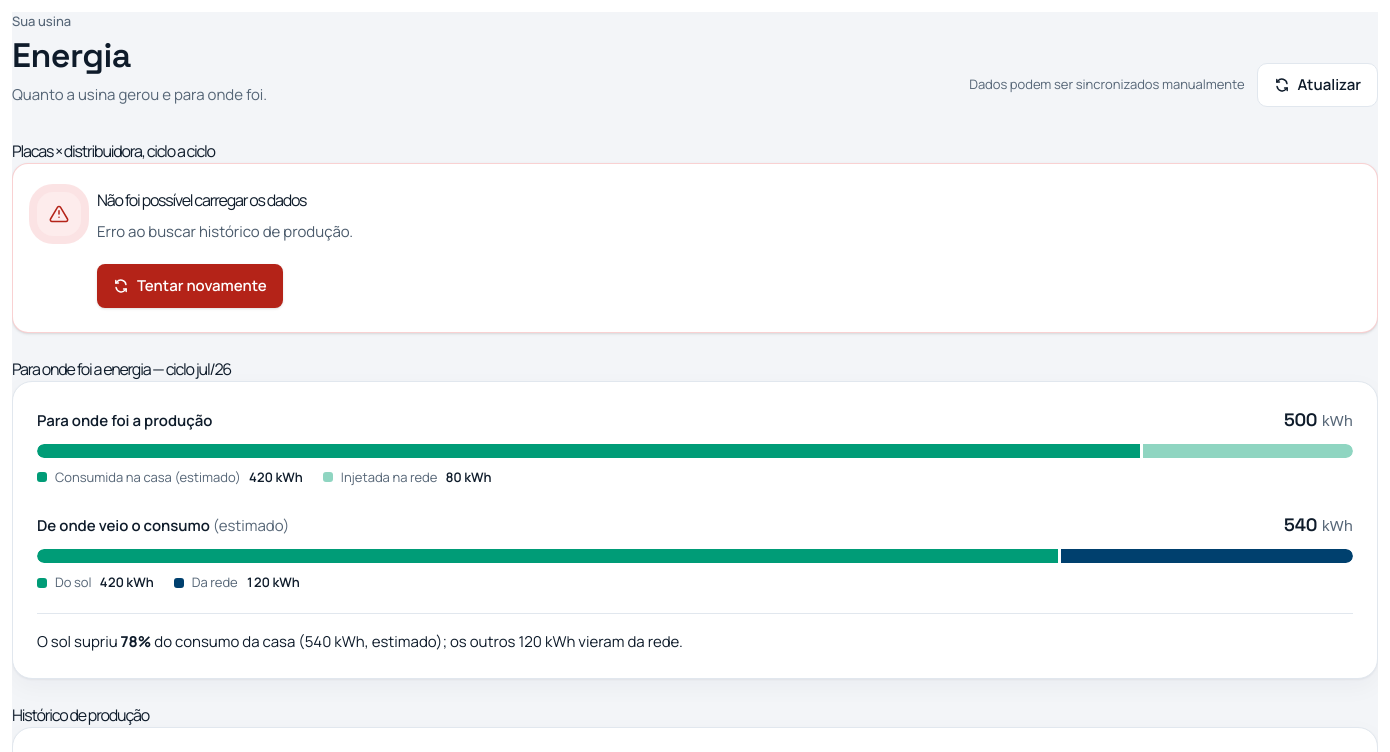
ProductionPage — seção "Placas × distribuidora, ciclo a ciclo" › mostra RetryableError (não as colunas) quando fetchMonthlyProductionHistory falha, sem travar o resto do módulo, e refaz o fetch ao clicar em "Tentar novamente"
expect the message is shown: met, box [12,163,1378,333]
expect the message shows "Erro ao buscar histórico de produção.": met, box [97,221,353,242]
Click the button "Tentar novamente". click: (190, 286)
box: [97,264,283,308]
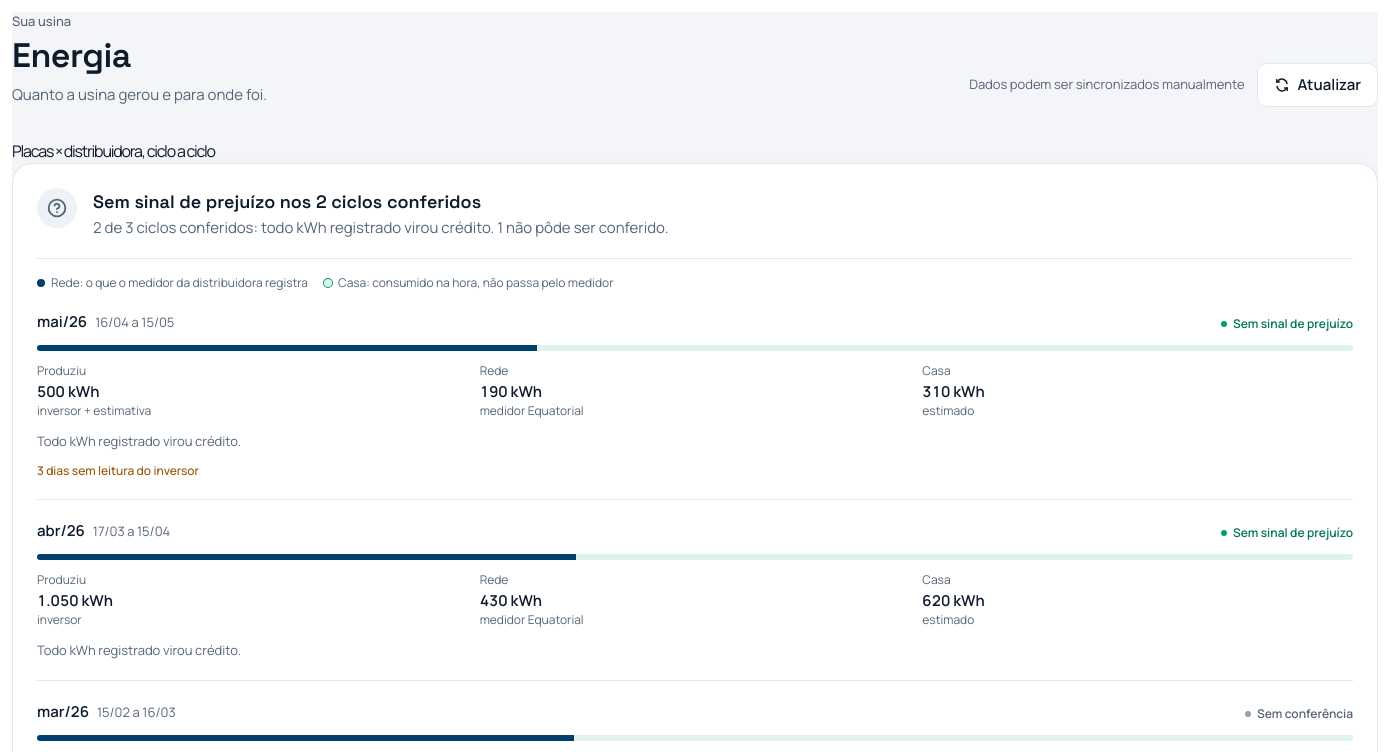
expect the heading "mai/2616/04 a 15/05" is shown: met, box [37,311,174,333]
